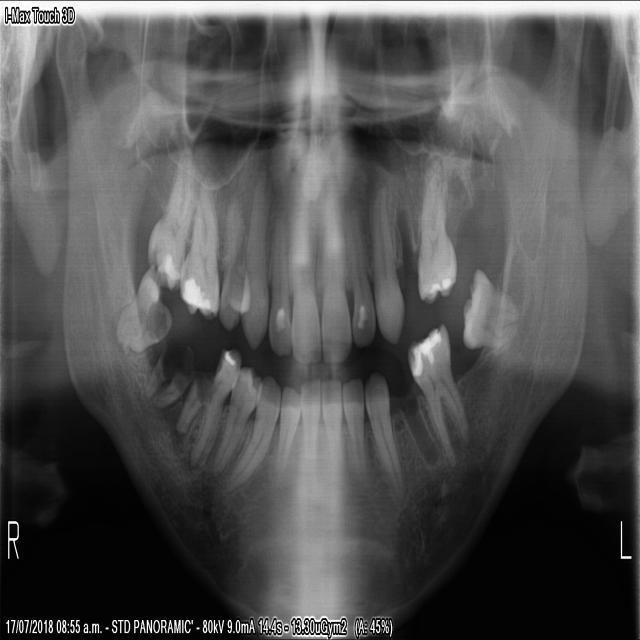LCD: (364, 368, 405, 500)
LCU: (370, 181, 404, 347)
LID: (341, 375, 370, 489), (320, 375, 344, 490)
LIU: (319, 189, 352, 364), (344, 197, 375, 350)
LMD: (404, 318, 471, 470), (459, 262, 520, 353)
LMU: (415, 155, 457, 307)
RCD: (222, 370, 279, 495)
RCU: (239, 175, 267, 352)
RID: (271, 384, 298, 479), (298, 375, 320, 486)
RIU: (288, 196, 320, 367), (265, 189, 289, 361)
RMD: (113, 266, 171, 353)
RMU: (144, 143, 194, 293), (177, 174, 217, 323)
RPMD: (187, 343, 241, 470), (205, 363, 258, 476)
RPMU: (215, 178, 243, 336)
